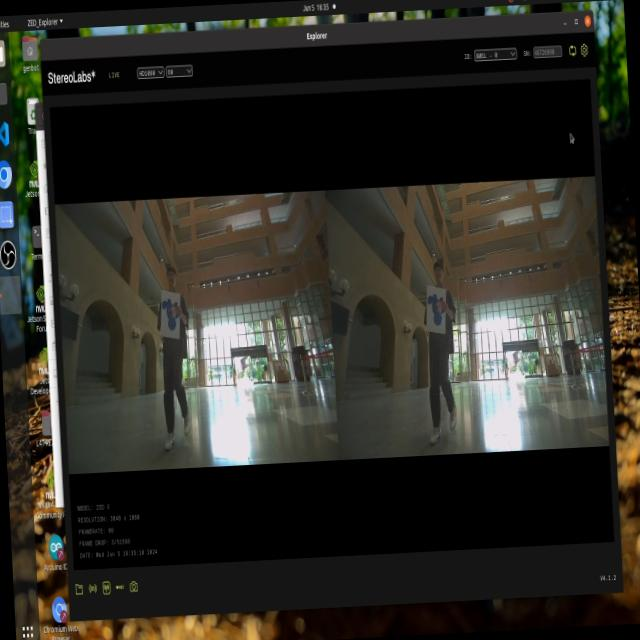blue: (160, 296, 184, 340), (425, 287, 447, 327)
